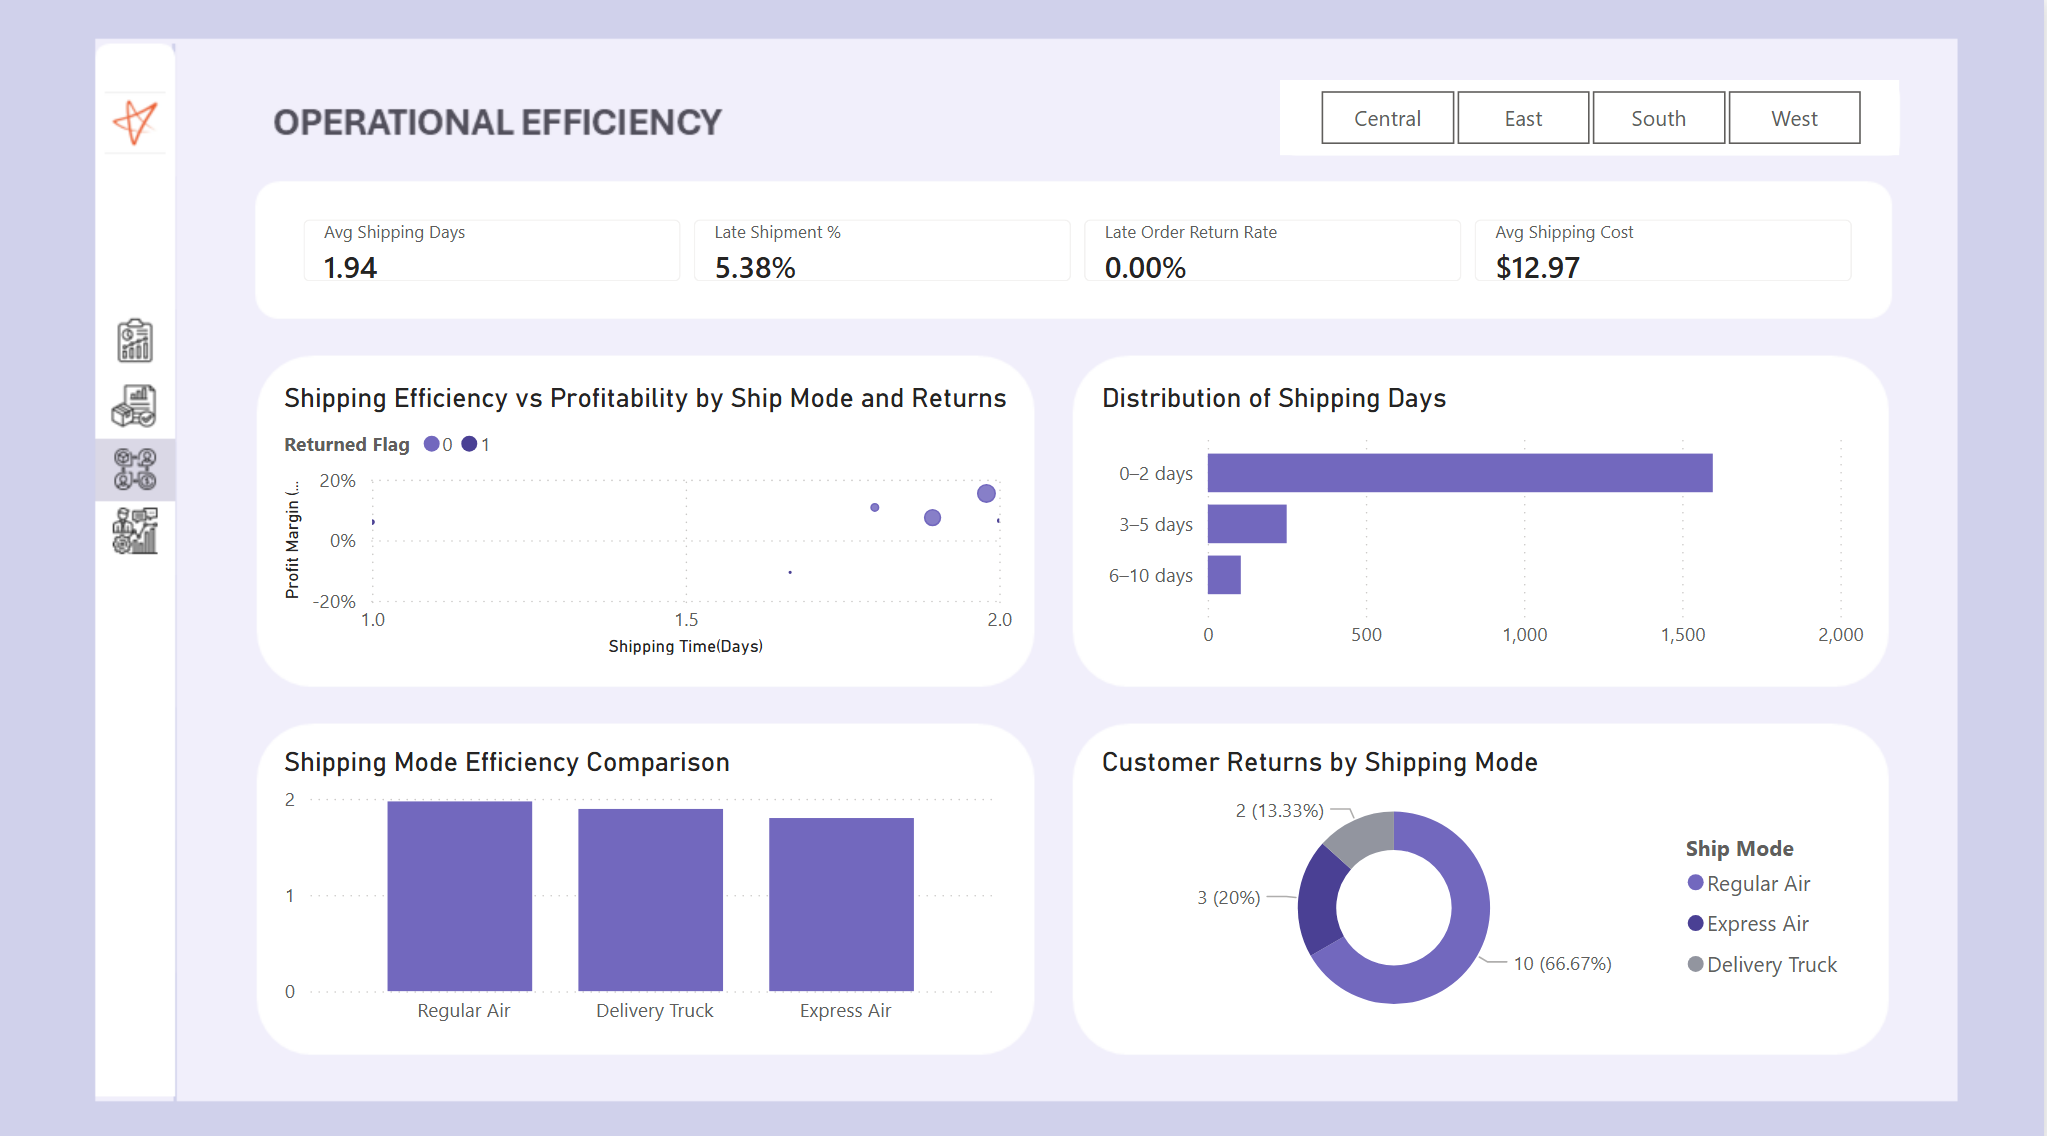

What the dashboard file says about the page in this screenshot:
{"tool":"powerbi","page":{"name":"Page 3","canvas":[1280,720],"ordinal":2},"visuals":[{"type":"scatterChart","title":"Shipping Efficiency vs Profitability by Ship Mode and Returns","fields":{"X":["outputssuperstore_cleaned.Avg Shipping Days"],"Y":["outputssuperstore_cleaned.Profit Margin %"],"Category":["outputssuperstore_cleaned.Ship Mode"],"Series":["outputssuperstore_cleaned.Returned"],"Size":["outputssuperstore_cleaned.Total Sales"]},"box":[174.6,240,465,175.7],"z":0},{"type":"donutChart","title":"Customer Returns by Shipping Mode","fields":{"Category":["outputssuperstore_cleaned.Ship Mode"],"Y":["Sum(outputssuperstore_cleaned.Returned)"]},"box":[686.8,467.1,478.9,183.2],"z":1000},{"type":"columnChart","title":"Shipping Mode Efficiency Comparison","fields":{"Category":["outputssuperstore_cleaned.Ship Mode"],"Y":["outputssuperstore_cleaned.Avg Shipping Days"]},"box":[174.6,467.1,456.4,183.2],"z":2000},{"type":"cardVisual","fields":{"Data":["outputssuperstore_cleaned.Avg Shipping Days","Profit Bridge.Late Shipment %","Profit Bridge.Late Order Return Rate","Profit Bridge.Avg Shipping Cost"]},"box":[174.6,121.1,1005,73.9],"z":3000},{"type":"clusteredBarChart","title":"Distribution of Shipping Days ","fields":{"Category":["outputssuperstore_cleaned.Shipping Days Range"],"Y":["CountNonNull(outputssuperstore_cleaned.Shipping Days)"]},"box":[686.8,240,486.4,175.7],"z":4000},{"type":"slicer","fields":{"Values":["outputssuperstore_cleaned.Region"]},"box":[802,51,387,47],"z":5000},{"type":"pageNavigator","box":[71.8,195,32.1,156.4],"z":6000}]}

Visuals, with their boxes on the page's 1280x720 design canvas (x1, y1, x2, y2). These are canvas units, not pixel positions in the 2047x1136 screenshot, which may show the page scaled, cropped or inside an application window:
"Shipping Efficiency vs Profitability by Ship Mode and Returns" scatterChart: bbox(175, 240, 640, 416)
"Customer Returns by Shipping Mode" donutChart: bbox(687, 467, 1166, 650)
"Shipping Mode Efficiency Comparison" columnChart: bbox(175, 467, 631, 650)
cardVisual - outputssuperstore_cleaned.Avg Shipping Days x Profit Bridge.Late Shipment %: bbox(175, 121, 1180, 195)
"Distribution of Shipping Days " clusteredBarChart: bbox(687, 240, 1173, 416)
slicer - outputssuperstore_cleaned.Region: bbox(802, 51, 1189, 98)
pageNavigator: bbox(72, 195, 104, 351)
